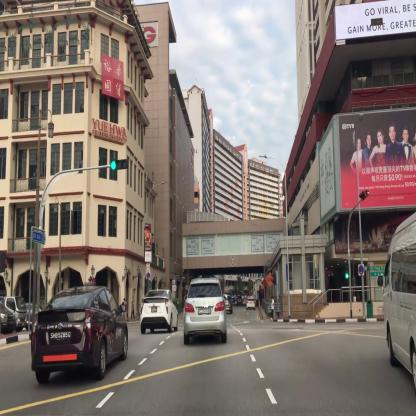green_traffic_light: (110, 159, 127, 168), (345, 262, 349, 278)
